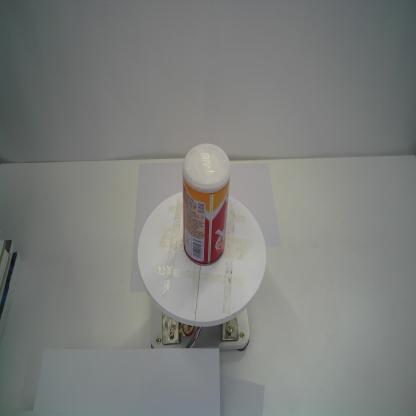Canned Food: (182, 142, 231, 267)
